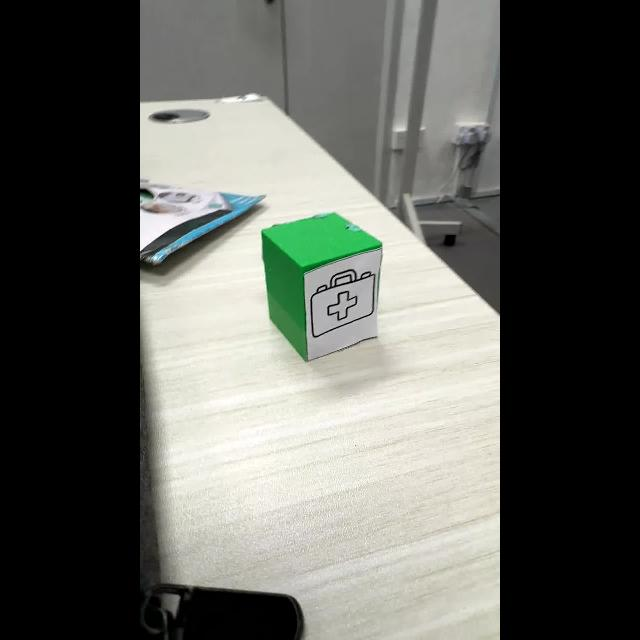Medkit: (310, 269, 375, 338)
